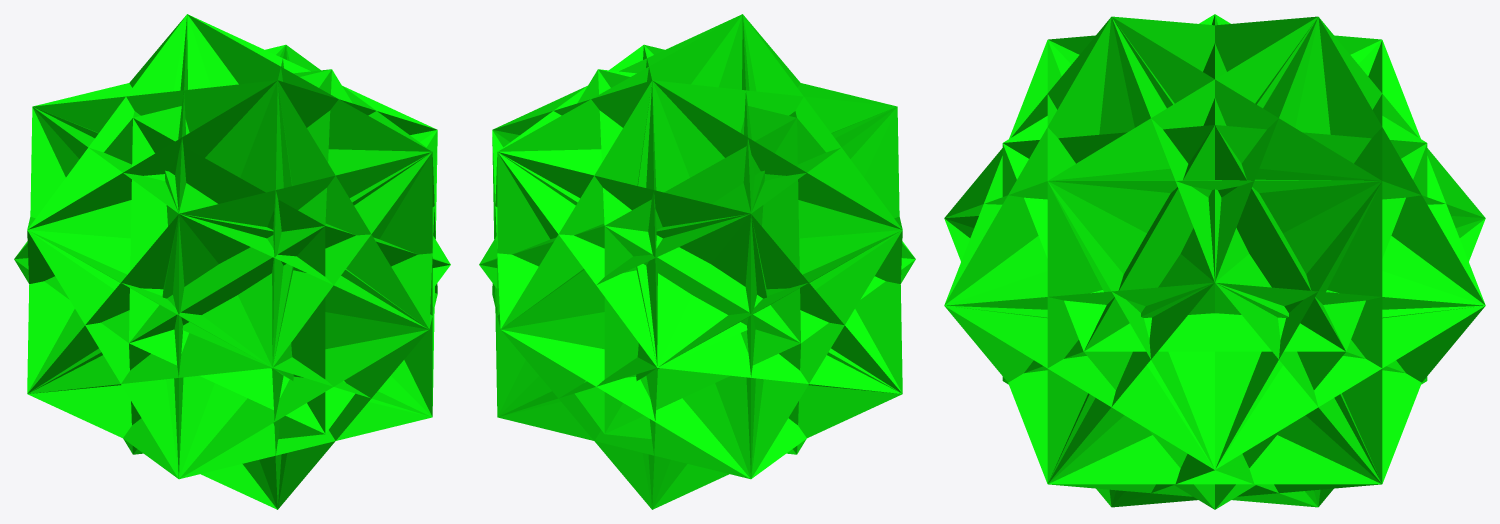
Rendered from iso4anim.fbx.
3 views of the same model, side by side, from view 1: azimuth 30°, elevation 25°; view 2: azimuth 150°, elevation 25°; view 3: azimuth 270°, elevation 25° (orthographic). The views are drawn at different scales.
Visible parts, largest first — view 1: pSolid7; view 2: pSolid7; view 3: pSolid7.
Boxes of the visible parts, <box> form: pSolid7: <box>14,14,450,509</box>; pSolid7: <box>479,14,915,509</box>; pSolid7: <box>944,14,1485,509</box>.
Bounding box in the file's own units: 217 × 217 × 217.
